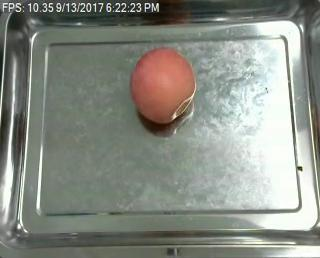apple: (131, 47, 197, 124)
